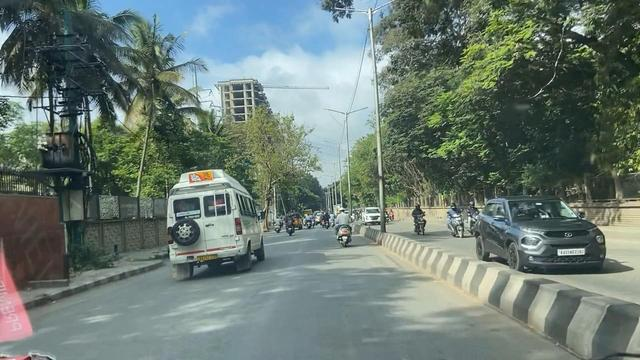HMV: (164, 172, 267, 274)
